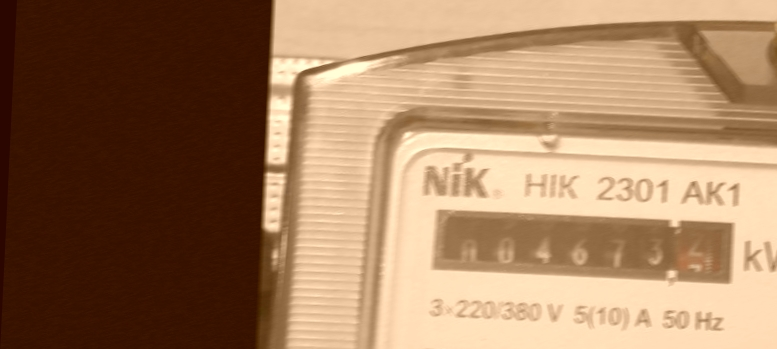0: (457, 231, 478, 262), (495, 231, 514, 263)
2: (684, 224, 706, 257)
3: (645, 231, 663, 266)
4: (532, 229, 552, 265)
6: (566, 230, 589, 265)
7: (604, 232, 628, 270)
screen: (426, 201, 738, 291)
